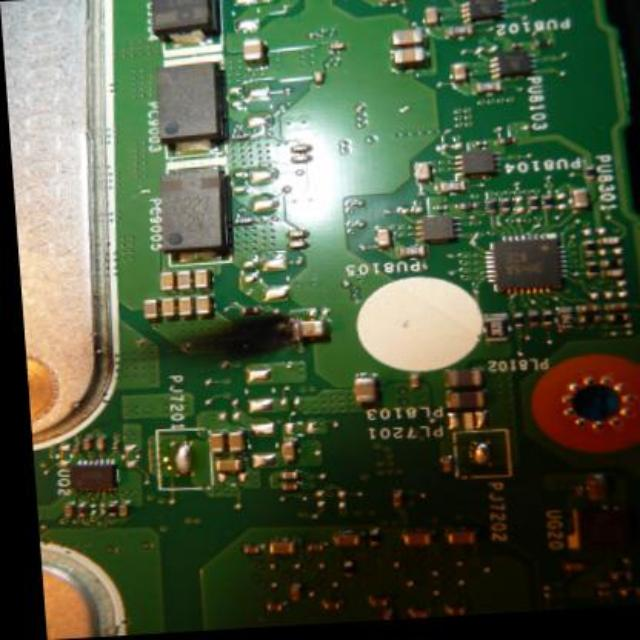PCB: (1, 1, 638, 636)
